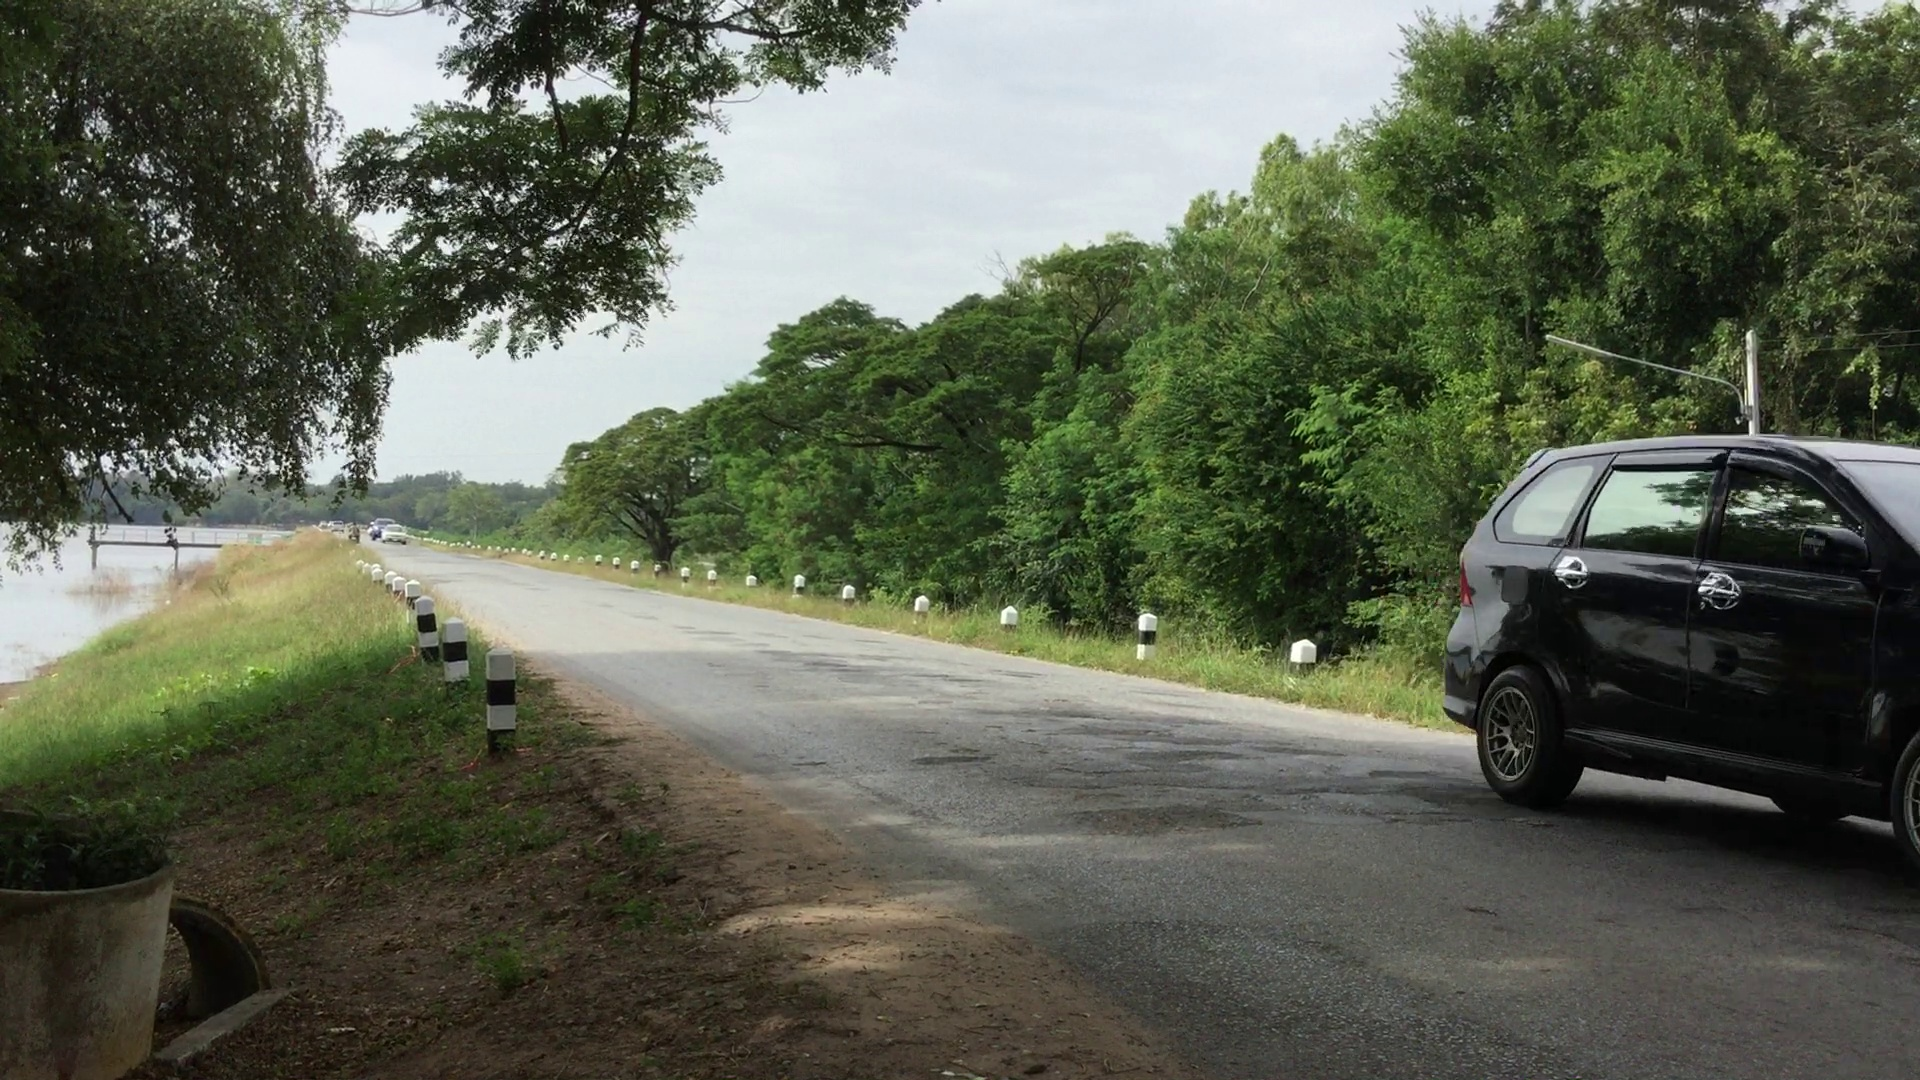car: (1443, 435, 1898, 775)
post: (485, 644, 516, 752), (438, 615, 473, 691), (410, 593, 442, 659)
